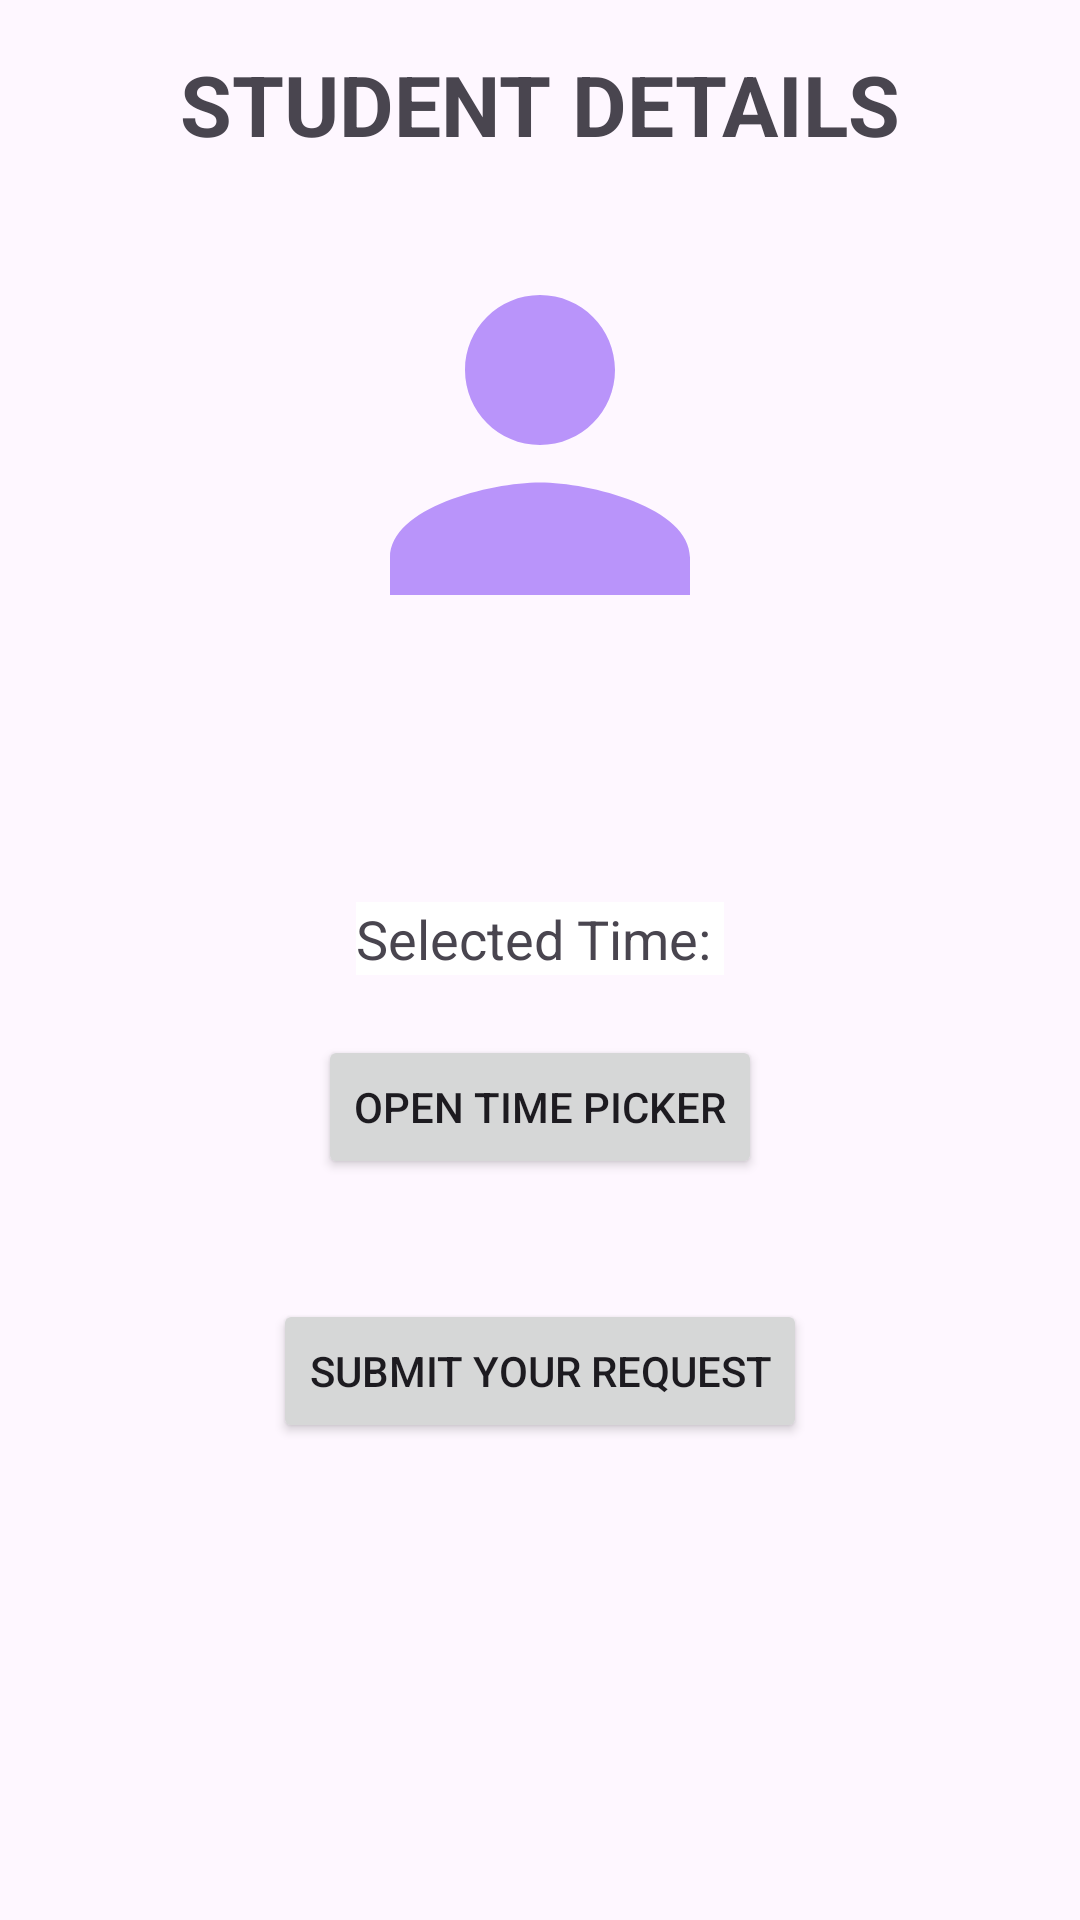

Icon bounding boxes for this 1080x1920 phone screenshot, format Rect(x1, y1, x2, y2):
person: Rect(390, 295, 690, 595)
